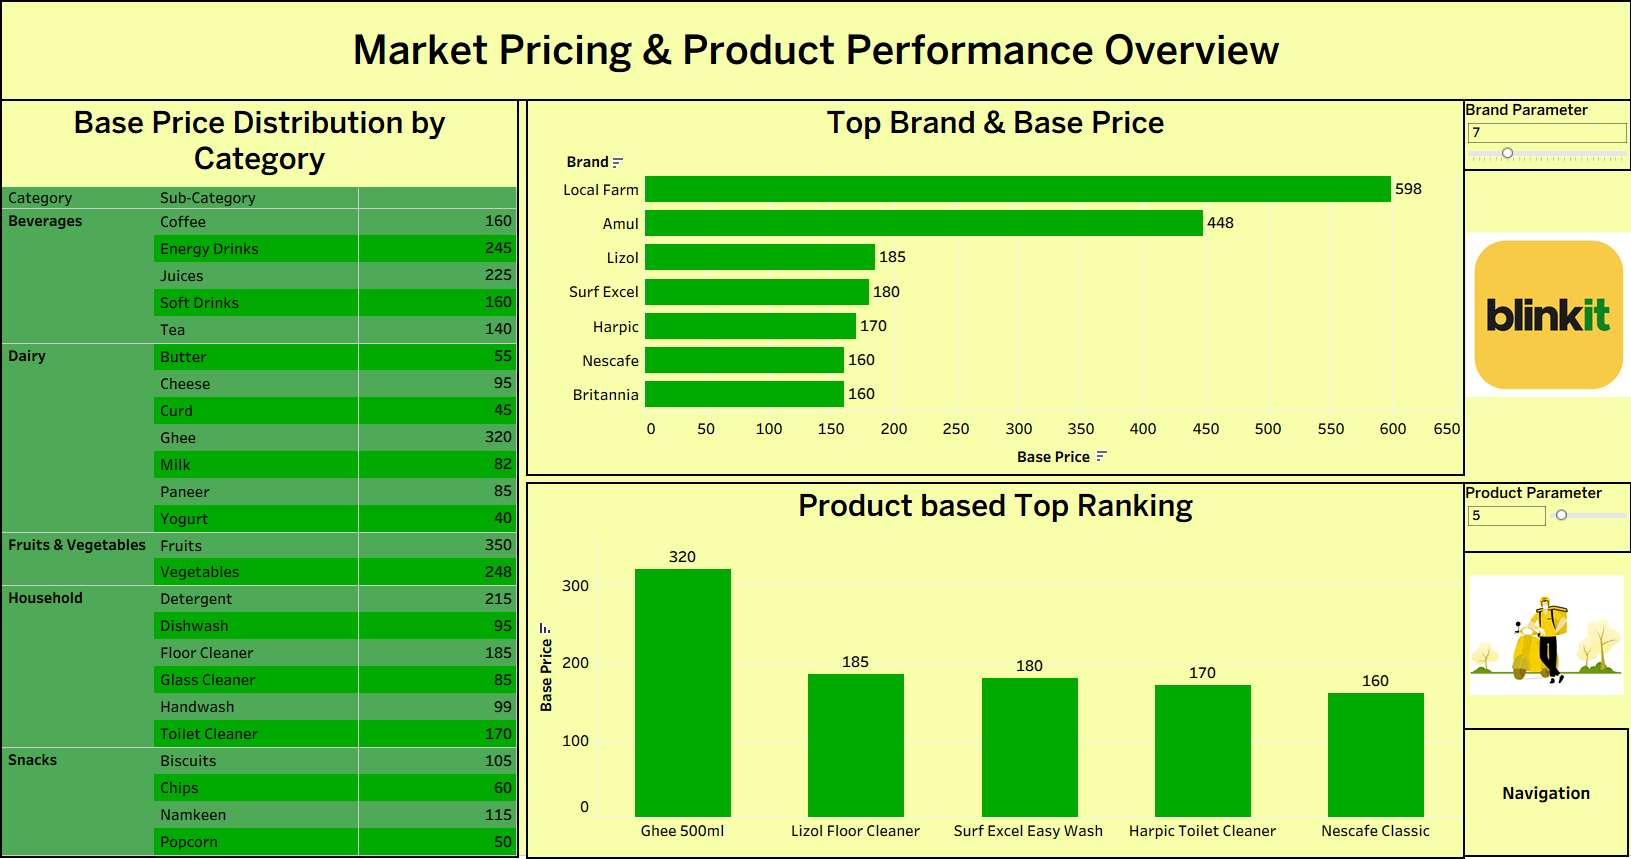

The page's visual inventory and layout, read from the dashboard file:
{"tool":"tableau","page":{"name":"Market Research","canvas":[1000,1000],"units":"permille","ordinal":1},"visuals":[{"type":"image","box":[0,0,1000,1000]},{"type":"text","box":[7.3,0,989.1,117.4]},{"type":"worksheet","title":"Base Price Distribution by Category","mark":"Automatic","rows":["Category","Sub-Category"],"box":[7.4,114.8,314.7,882.8]},{"type":"worksheet","title":"Top Brand & Base Price","mark":"Automatic","rows":["Brand"],"cols":["Base Price"],"box":[326.1,115.1,569.1,438.4]},{"type":"parameter","param":"[Parameters].[Parameter 1]","box":[893.9,115.1,102.4,83.7]},{"type":"image","param":"Image/image.png","box":[895.8,269.8,100,193]},{"type":"worksheet","title":"Product based Top Ranking","mark":"Automatic","rows":["Base Price"],"cols":["Product Name"],"box":[326.1,560.5,569.1,438.4]},{"type":"parameter","param":"[Parameters].[Parameter 2]","box":[893.9,560.5,102.4,82.6]},{"type":"image","param":"Image/image2.jpg","box":[897.6,668.6,93.9,211.6]},{"type":"dashboard-object","box":[893.9,846.5,100.6,150]}]}

Visuals, with their boxes on the dashboard's canvas, which has no fixed pixel size, in thousandths of its width and height (x1, y1, x2, y2). These are canvas units, not pixel positions in the 1631x859 screenshot, which may show the page scaled, cropped or inside an application window:
image: Rect(0, 0, 1000, 1000)
text: Rect(7, 0, 996, 117)
"Base Price Distribution by Category" worksheet: Rect(7, 115, 322, 998)
"Top Brand & Base Price" worksheet: Rect(326, 115, 895, 554)
parameter: Rect(894, 115, 996, 199)
image: Rect(896, 270, 996, 463)
"Product based Top Ranking" worksheet: Rect(326, 560, 895, 999)
parameter: Rect(894, 560, 996, 643)
image: Rect(898, 669, 992, 880)
dashboard-object: Rect(894, 846, 994, 996)
